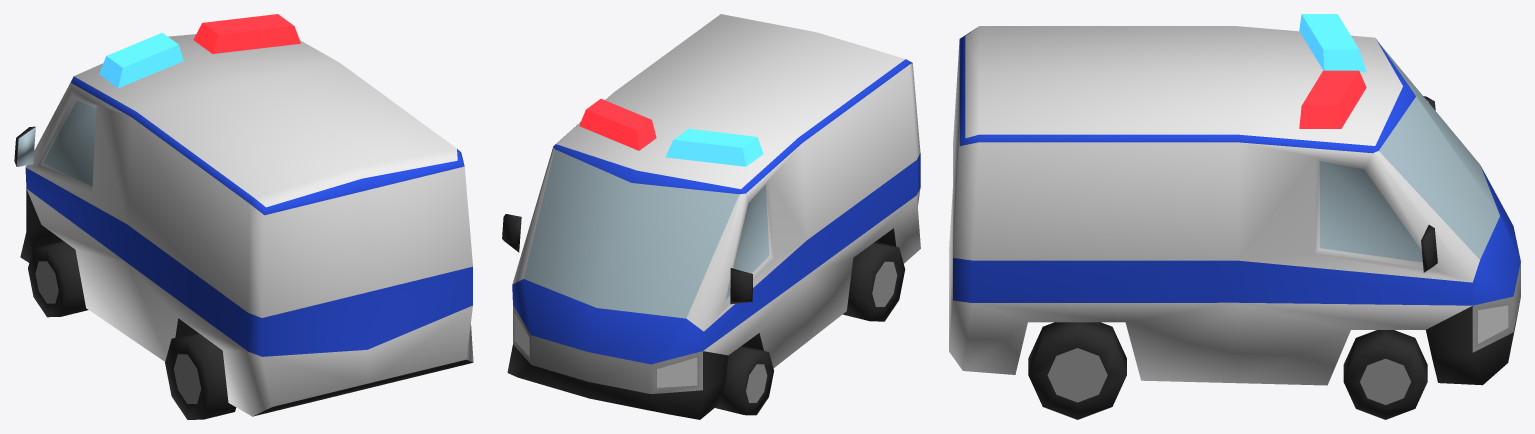
The model's file is police_van.fbx.
3 renders of one model, left to right at view 1: azimuth 30°, elevation 25°; view 2: azimuth 150°, elevation 25°; view 3: azimuth 270°, elevation 25°, orthographic. The views are drawn at different scales.
Parts seen in each view (by area): view 1: recto.003; view 2: recto.003; view 3: recto.003.
Part boxes in pixels (left/top/right/bottom): recto.003: left=14, top=14, right=473, bottom=419; recto.003: left=502, top=14, right=920, bottom=419; recto.003: left=949, top=14, right=1520, bottom=419.
Size of the model in its own units: 0.3578 by 0.3365 by 0.593.
